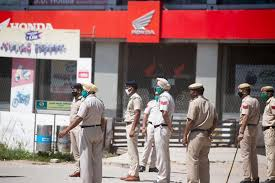mask: (151, 74, 168, 95), (78, 82, 93, 99), (186, 84, 199, 102), (122, 81, 136, 97), (237, 84, 251, 99), (257, 86, 271, 101), (68, 81, 79, 97)
